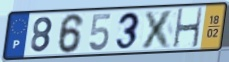3: (114, 10, 145, 52)
5: (87, 12, 113, 52)
6: (58, 12, 85, 55)
8: (30, 16, 54, 54)
H: (172, 6, 205, 50)
X: (140, 8, 177, 50)
